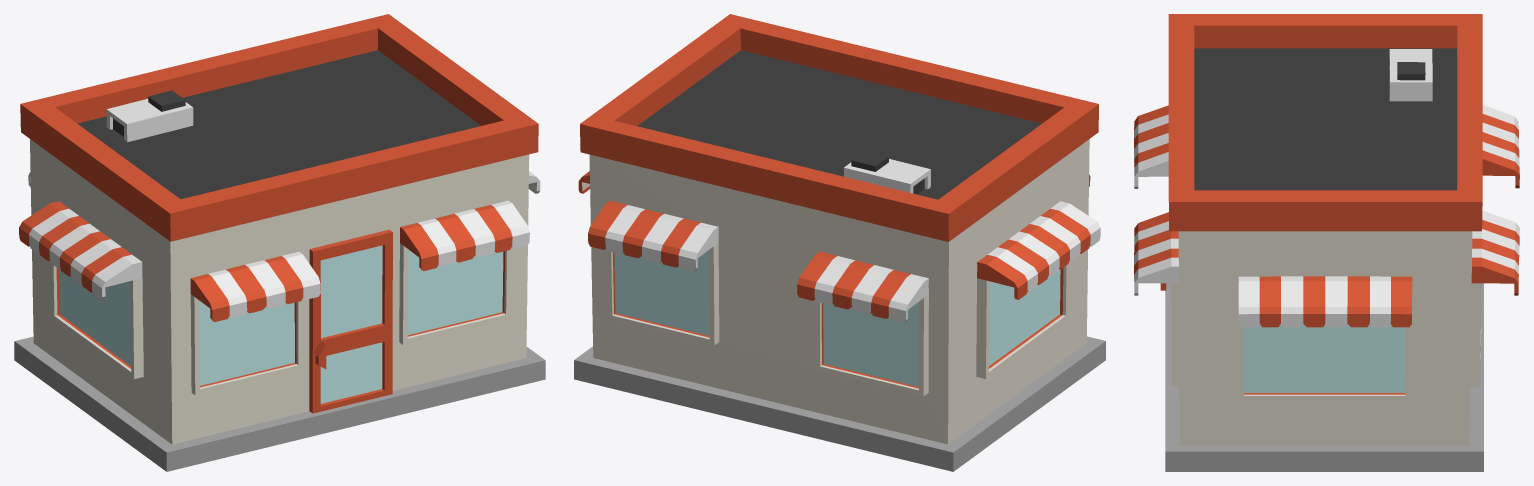
File: shop.glb
3 views of the same model, side by side, from view 1: azimuth 30°, elevation 25°; view 2: azimuth 150°, elevation 25°; view 3: azimuth 270°, elevation 25° (orthographic). The views are drawn at different scales.
Parts seen in each view (by area): view 1: Shop_Cube.006; view 2: Shop_Cube.006; view 3: Shop_Cube.006.
Part boxes in pixels (bbox=[...]): Shop_Cube.006: bbox=[14, 14, 545, 471]; Shop_Cube.006: bbox=[574, 14, 1105, 471]; Shop_Cube.006: bbox=[1134, 14, 1519, 471].
Size of the model in its own units: 2.48 by 1.39 by 1.8.
Materials: 1 (1 with a texture image).
